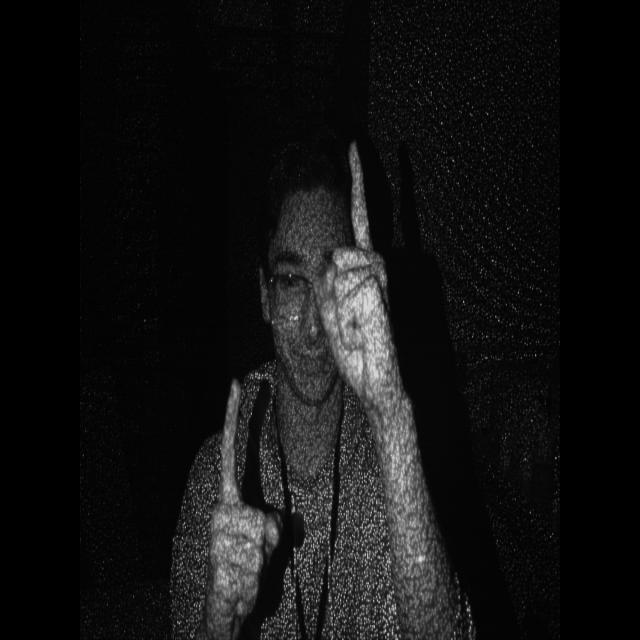STARS: (196, 359, 291, 639), (324, 134, 406, 418)
